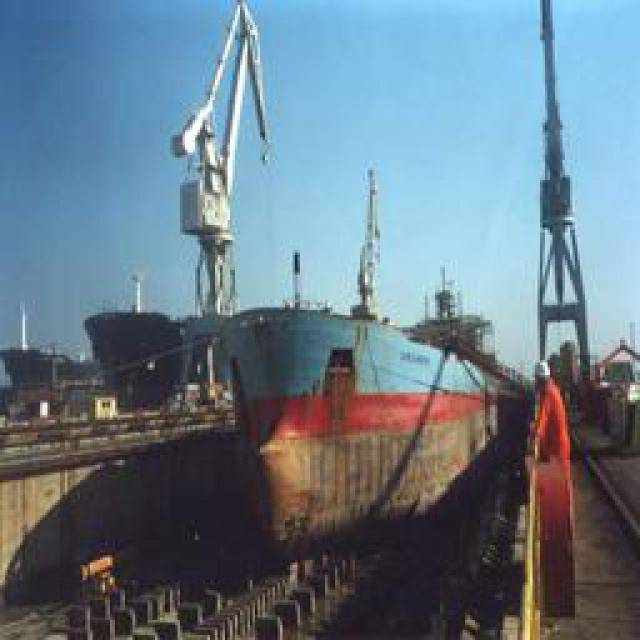Ship: (226, 148, 537, 563)
